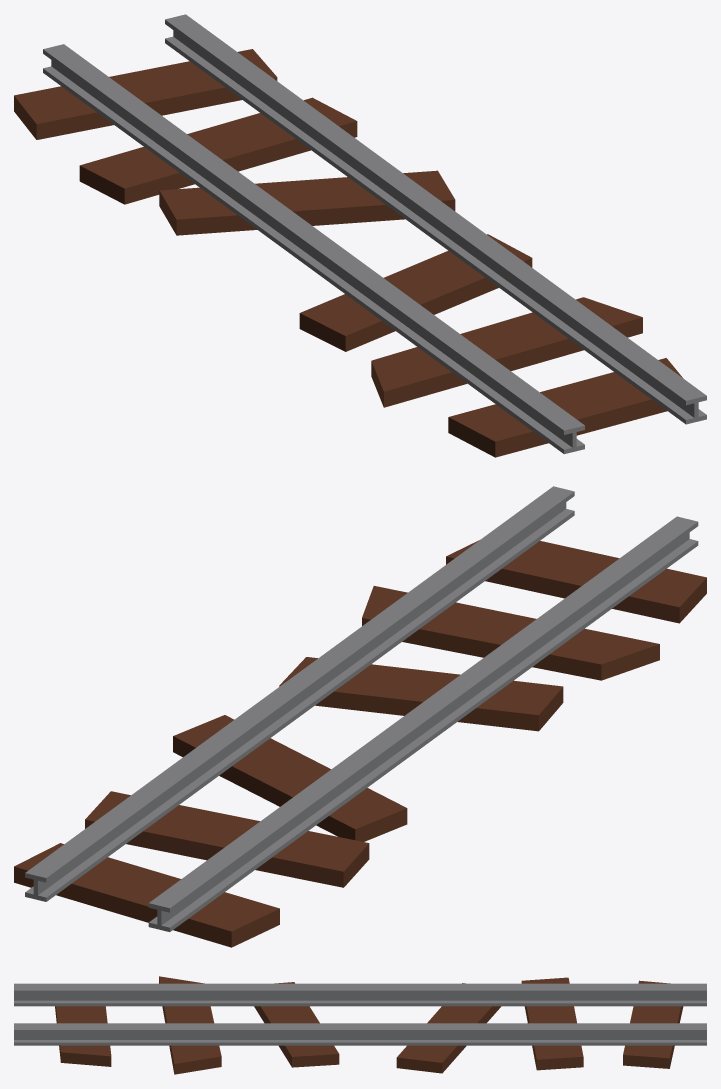
File: rail_3.fbx
3 views of the same model, one above another, from view 1: azimuth 30°, elevation 25°; view 2: azimuth 150°, elevation 25°; view 3: azimuth 270°, elevation 25° (orthographic). The views are drawn at different scales.
Parts seen in each view (by area): view 1: planks012, rail066; view 2: planks012, rail066; view 3: rail066, planks012.
Part boxes in pixels (x1,y1,x2,y2): planks012: [14, 49, 683, 457]; rail066: [43, 14, 706, 454]; planks012: [14, 540, 706, 947]; rail066: [25, 486, 698, 931]; rail066: [14, 983, 706, 1045]; planks012: [55, 976, 683, 1074].
Bounding box in the file's own units: 34.98 × 4.88 × 117.
